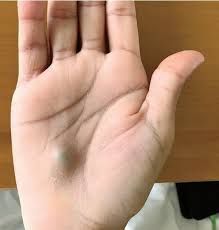hand: (5, 0, 207, 220)
